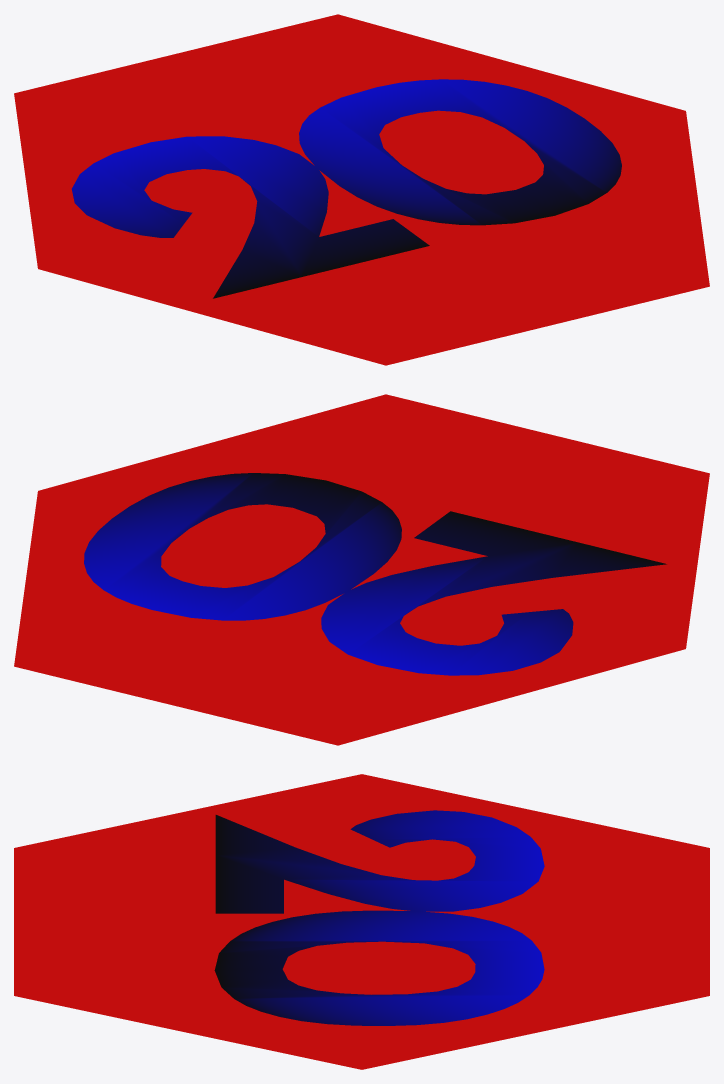
Rendered from SM_Number_20.fbx.
3 views of the same model, one above another, from view 1: azimuth 30°, elevation 25°; view 2: azimuth 150°, elevation 25°; view 3: azimuth 270°, elevation 25° (orthographic). The views are drawn at different scales.
Visible parts, largest first — view 1: FBX_OUT; view 2: FBX_OUT; view 3: FBX_OUT.
Boxes of the visible parts, x1=… form: FBX_OUT: x1=14, y1=14, x2=709, y2=365; FBX_OUT: x1=14, y1=394, x2=709, y2=745; FBX_OUT: x1=14, y1=774, x2=709, y2=1069.
Size of the model in its own units: 50 by 0.2917 by 49.71.
